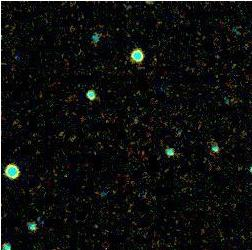star: (56, 118, 86, 148)
